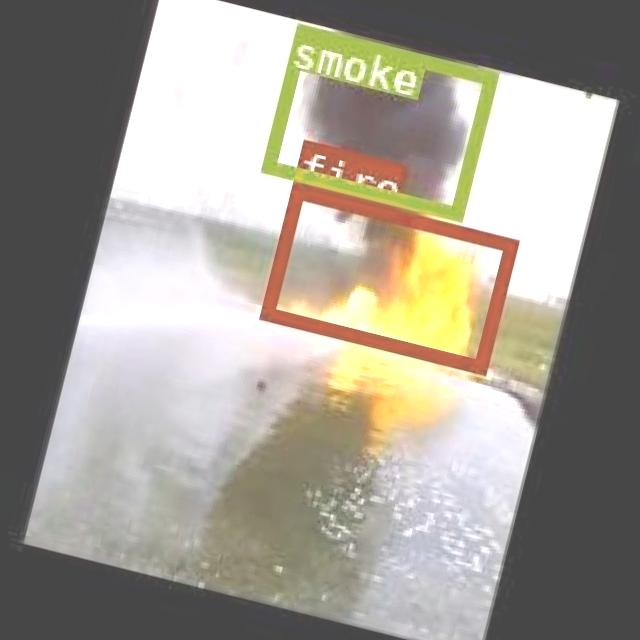fire: (259, 181, 516, 371)
smoke: (260, 22, 496, 218)
